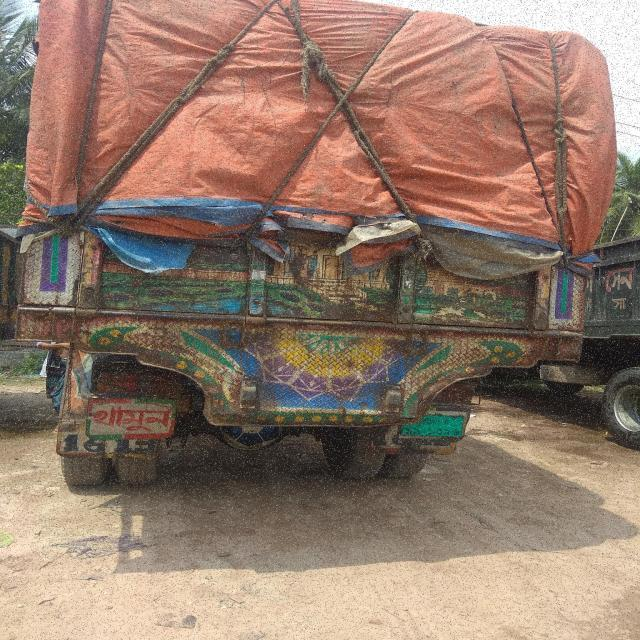numberplate: (398, 406, 474, 444)
